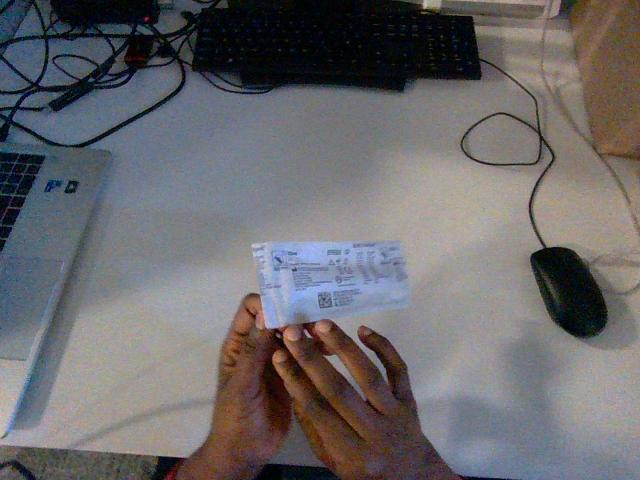syringe: (252, 241, 408, 328)
